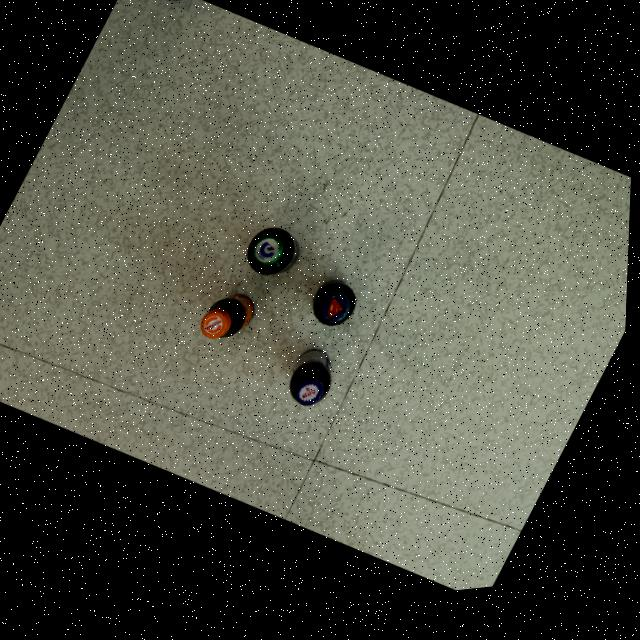energdrink: (249, 234, 301, 281), (202, 300, 256, 344), (292, 357, 334, 413), (315, 288, 358, 334)
